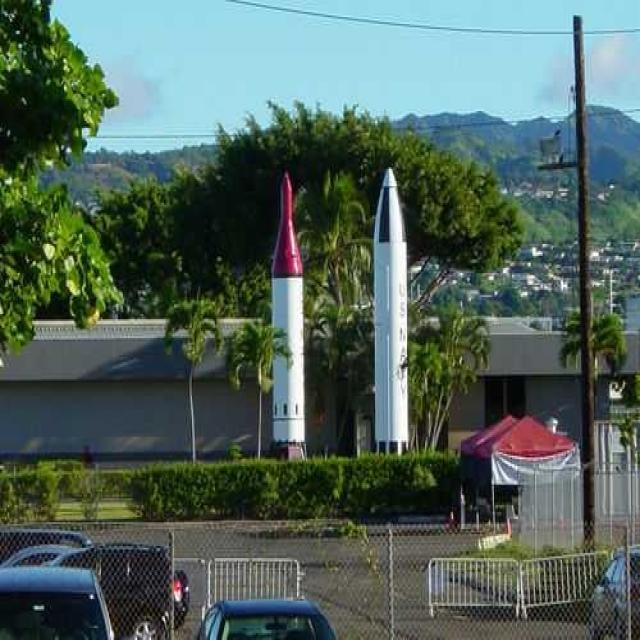missile: (268, 164, 312, 460), (368, 168, 412, 454)
